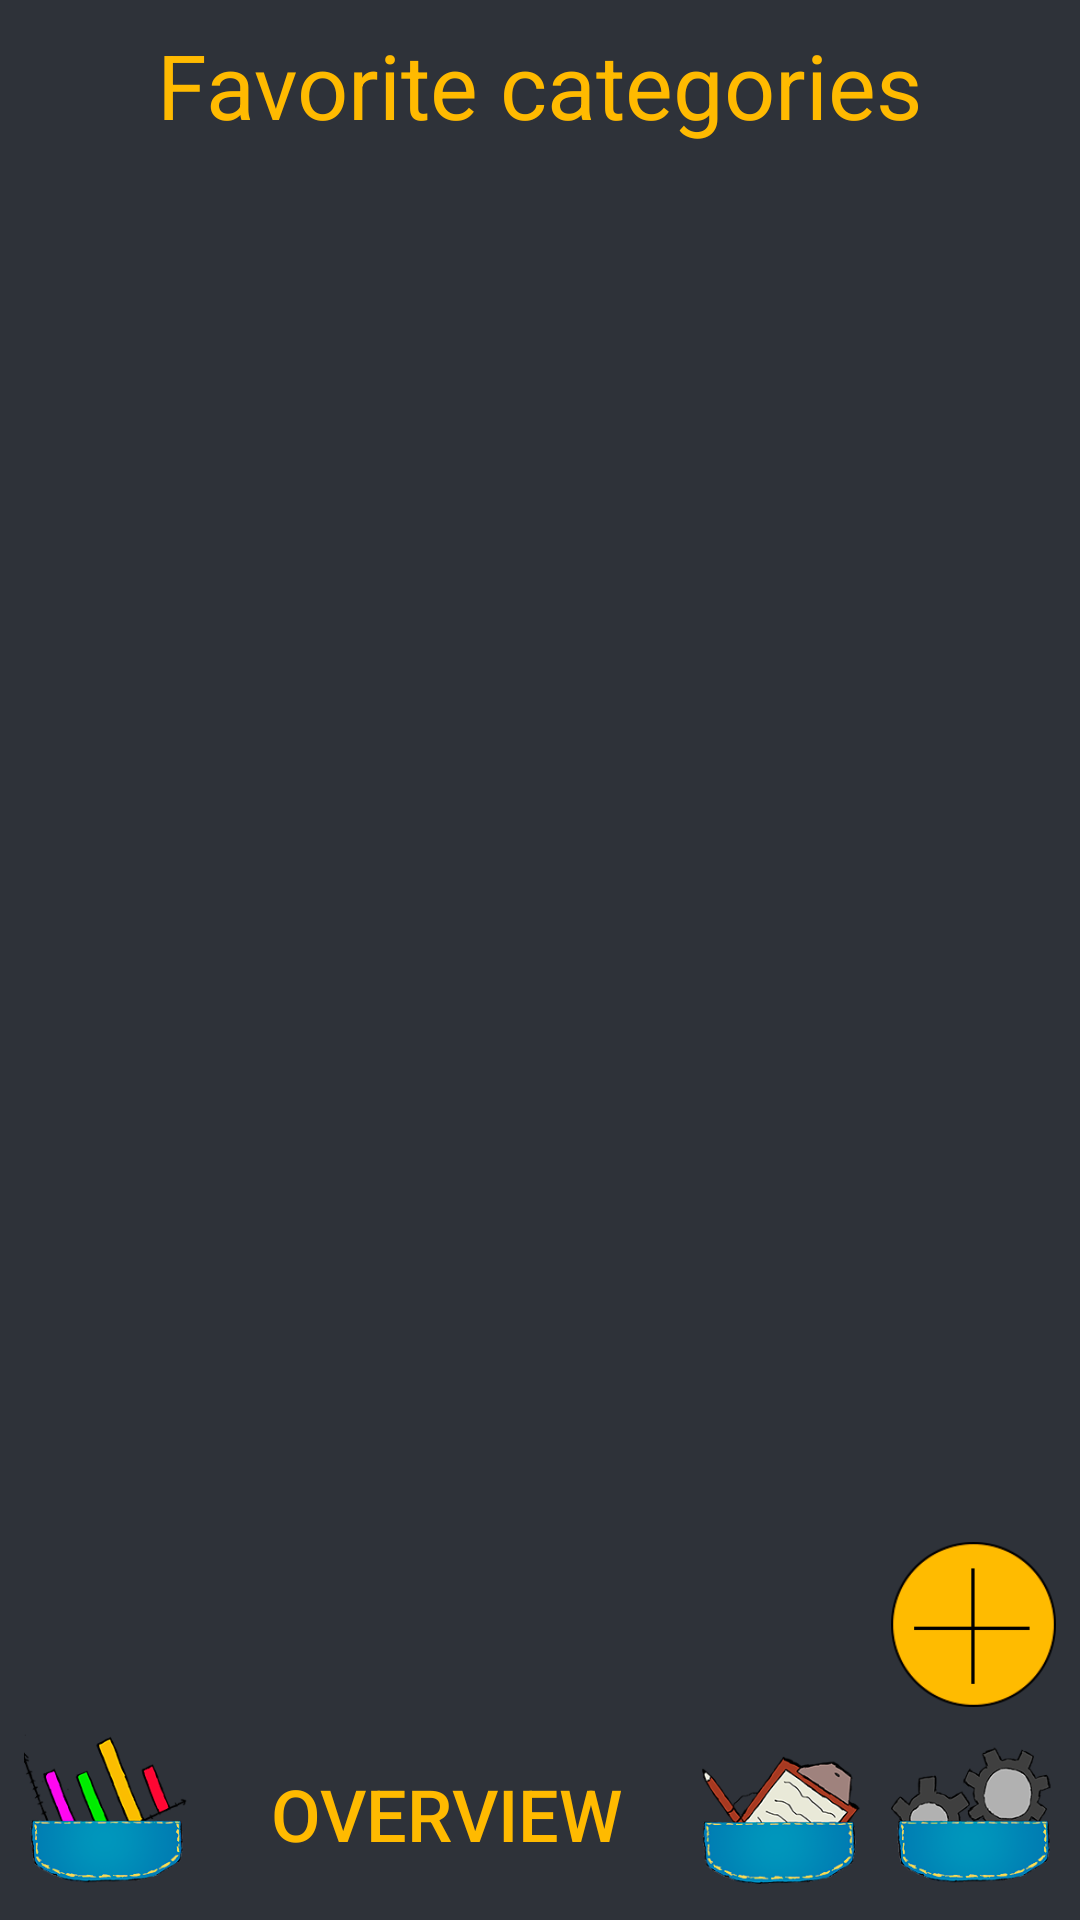

Named icons in this screenshot (1080*1920) and their bounding boxes, box(x1, y1, x2, y2):
add: box(891, 1542, 1056, 1707)
inventory: box(702, 1757, 859, 1884)
settings: box(891, 1748, 1050, 1882)
statistics: box(24, 1737, 186, 1882)
